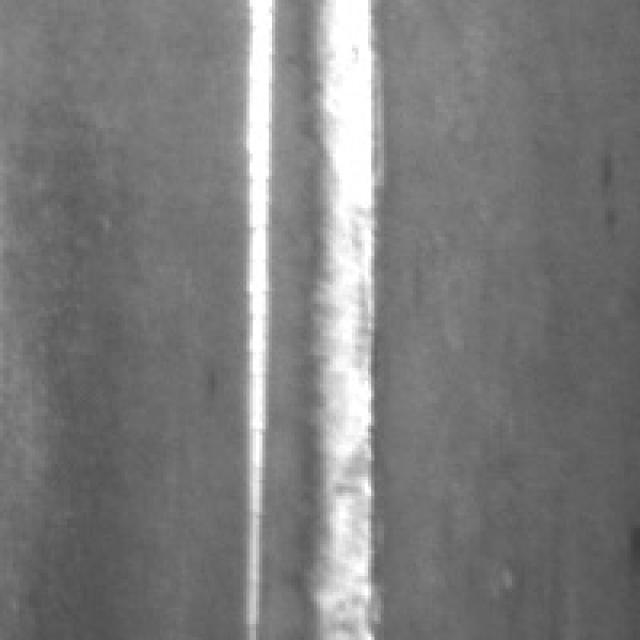scratches: (298, 0, 384, 637), (230, 0, 282, 634)
